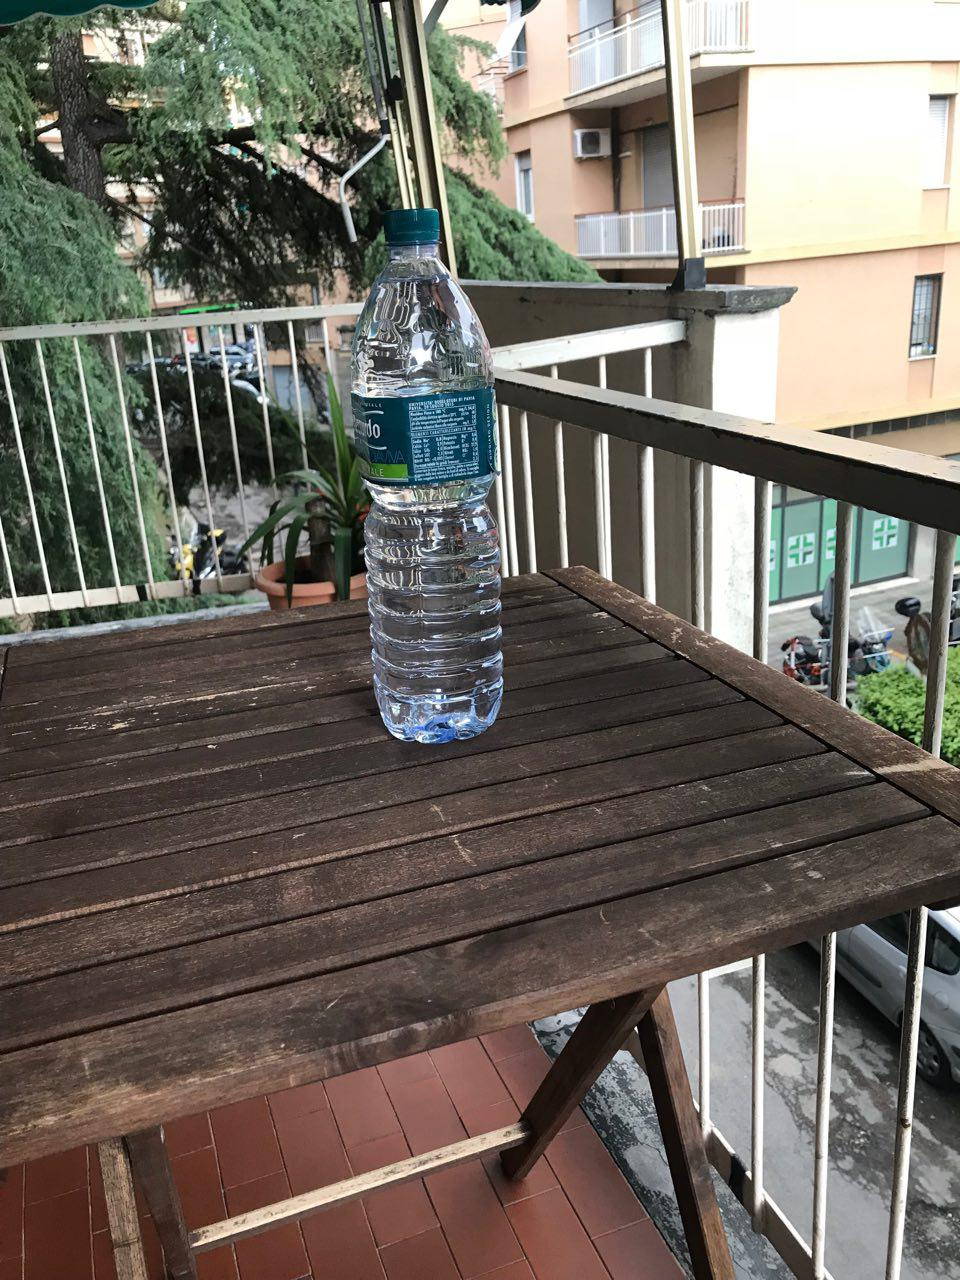san_bernardo: (349, 206, 504, 745)
